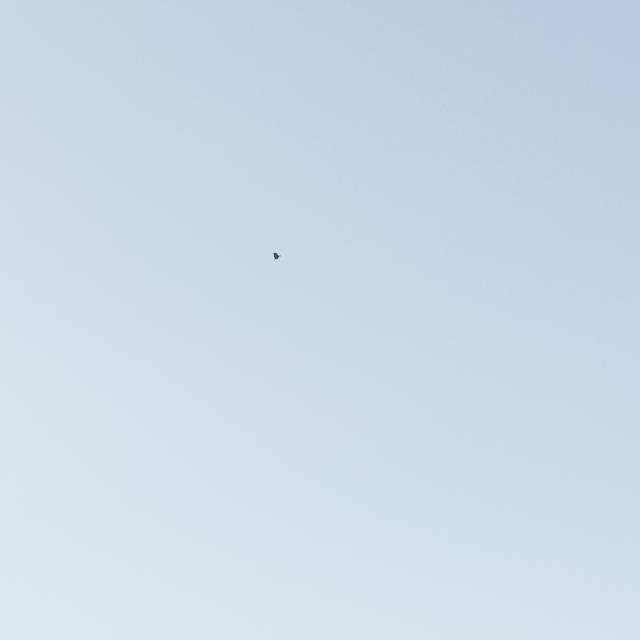Airaplan: (273, 253, 281, 261)
